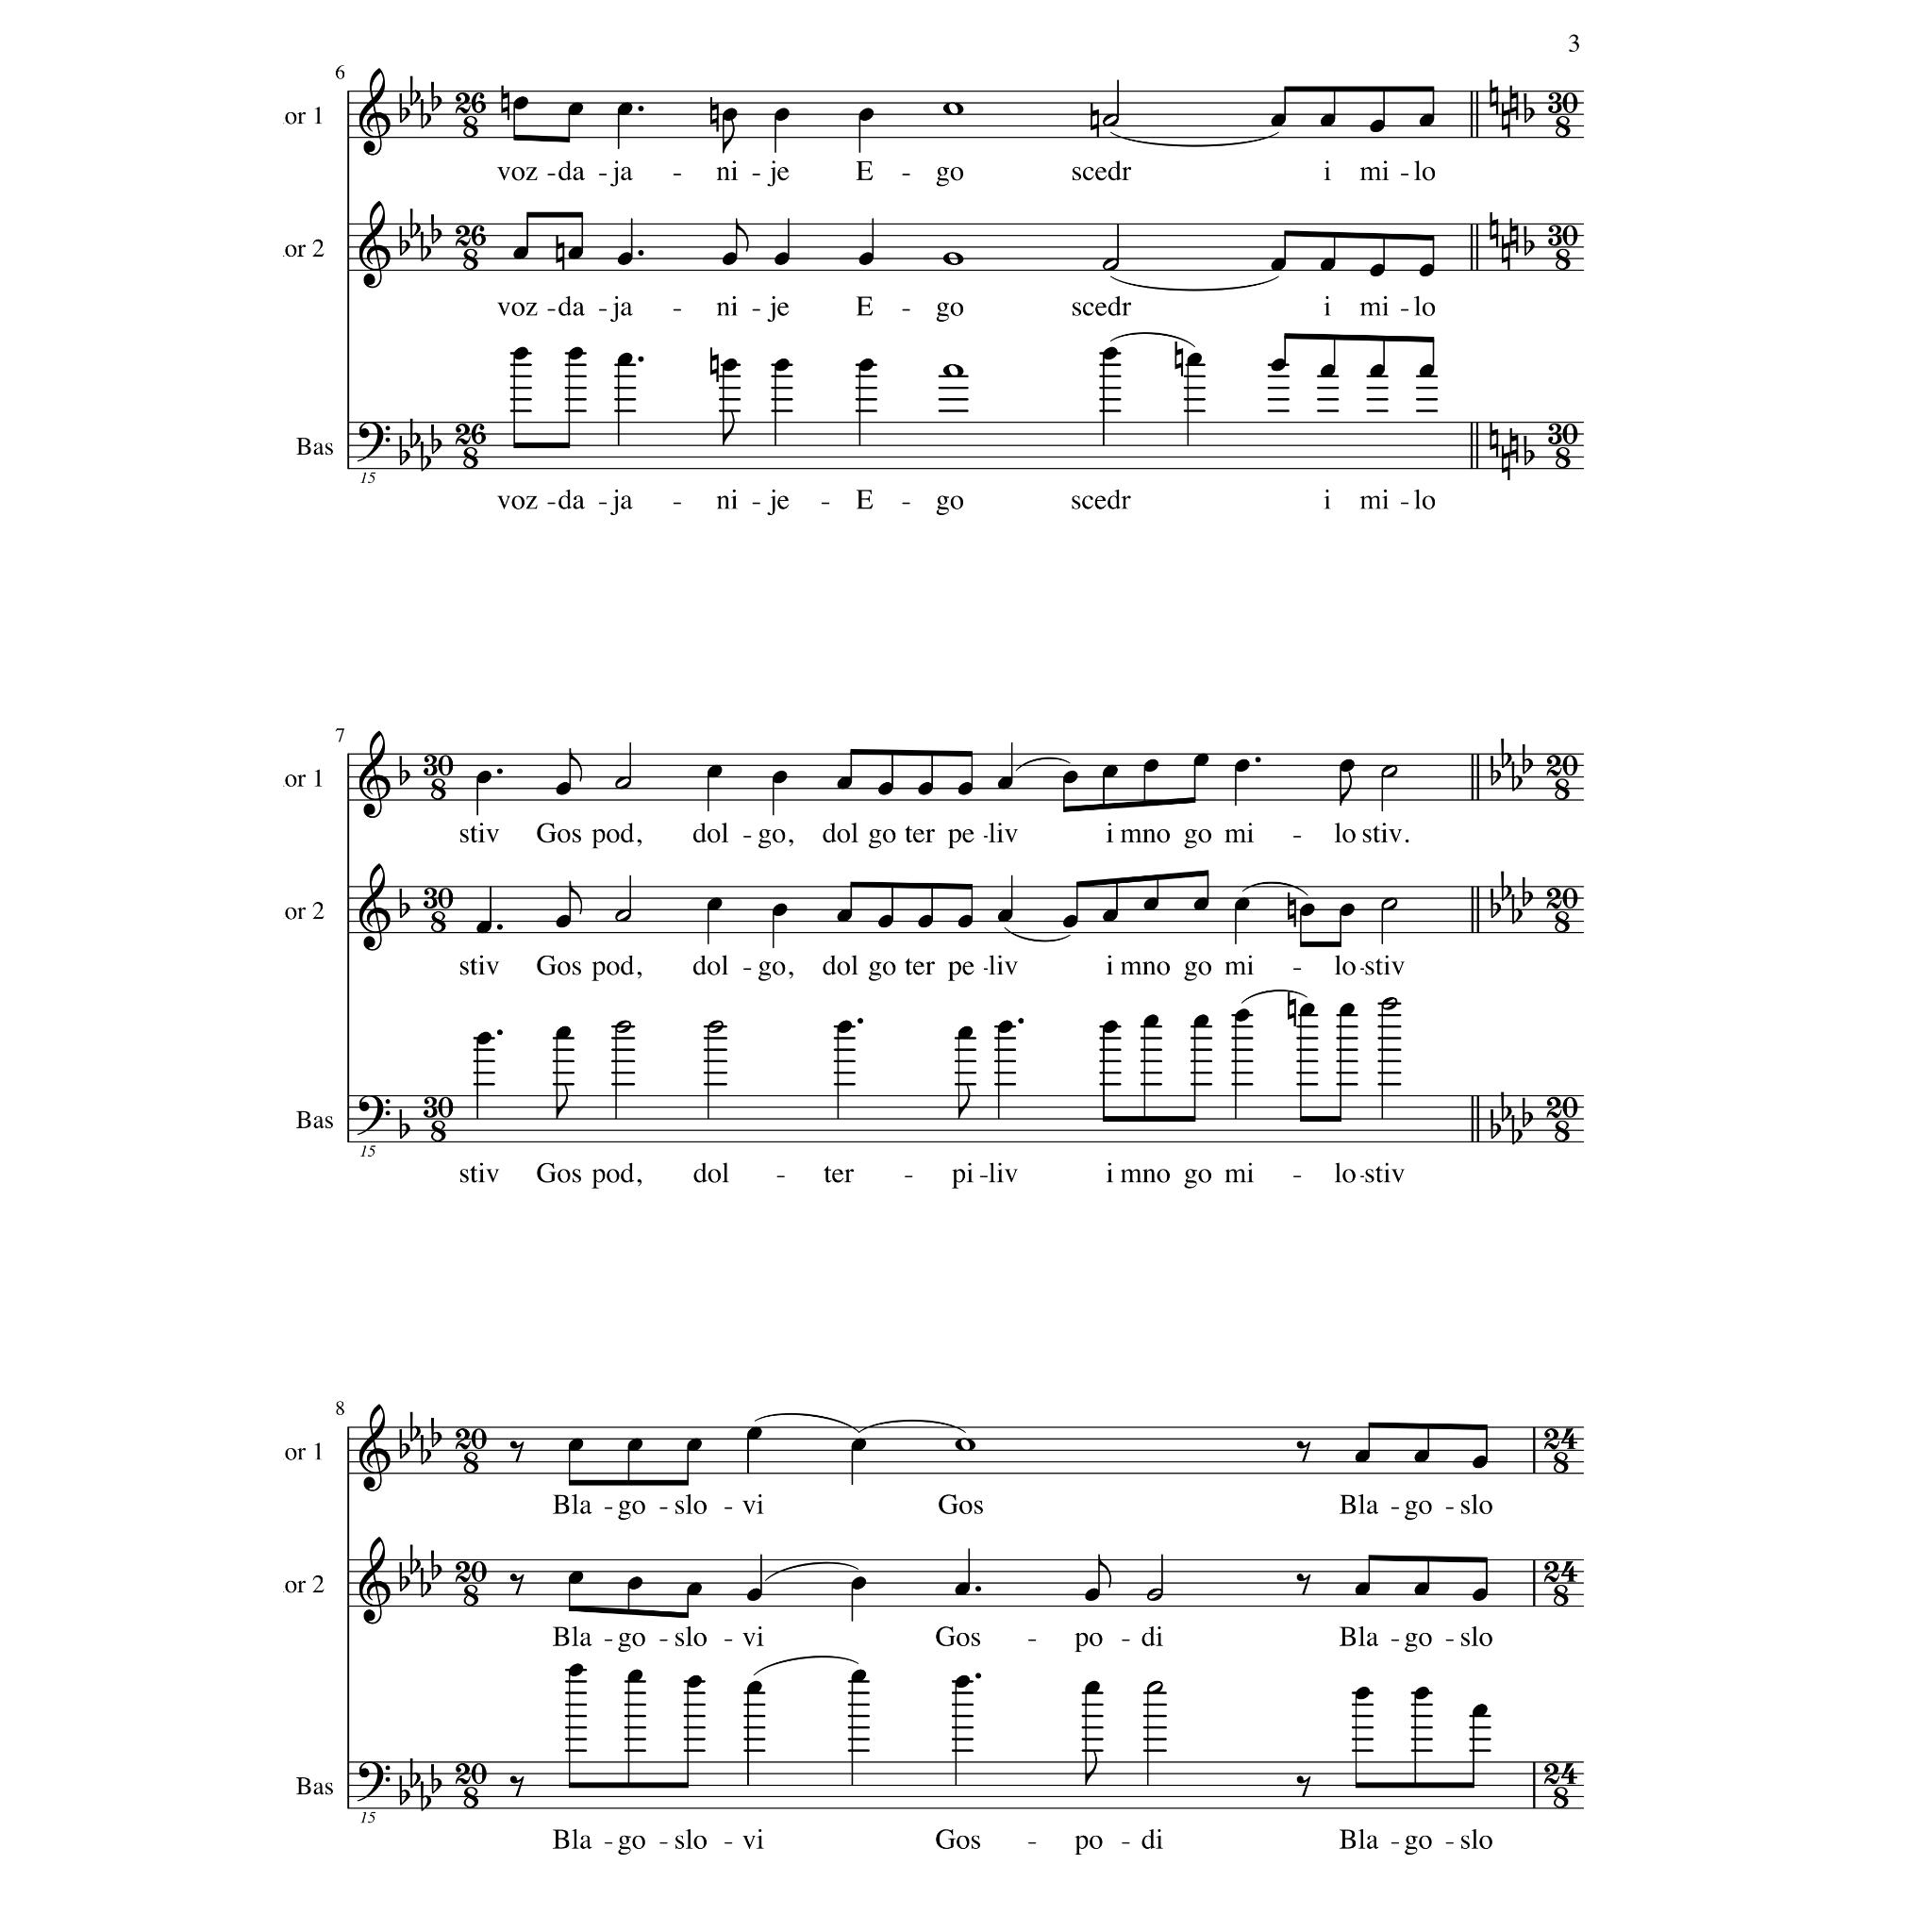fClef: (357, 423, 391, 464), (357, 1095, 391, 1136), (357, 1762, 391, 1803)
flag8thDown: (1339, 771, 1352, 807), (722, 412, 734, 446), (722, 120, 734, 154), (556, 1085, 568, 1118), (957, 1085, 970, 1118), (1085, 1752, 1097, 1785)
flag8thUp: (570, 748, 582, 784), (736, 219, 748, 253), (570, 881, 582, 915), (1099, 1555, 1111, 1589)
gClef: (359, 67, 391, 157), (359, 1403, 391, 1493), (359, 202, 391, 290), (359, 863, 391, 952), (359, 731, 391, 819), (359, 1537, 391, 1626)
noteheadBlack: (616, 352, 633, 366), (616, 103, 633, 117), (616, 251, 633, 265), (773, 251, 791, 265), (773, 108, 791, 122), (1299, 1003, 1316, 1017), (1320, 258, 1336, 272), (1369, 264, 1385, 278), (1102, 347, 1118, 361), (1270, 258, 1286, 272), (1187, 352, 1203, 366), (1419, 264, 1435, 278), (568, 347, 584, 361), (568, 103, 584, 117), (513, 347, 529, 361), (858, 108, 874, 122), (858, 251, 874, 265), (722, 251, 738, 265), (722, 108, 738, 122), (1235, 759, 1251, 773), (1192, 1014, 1208, 1028), (1102, 909, 1118, 924), (1102, 764, 1118, 778), (1063, 915, 1079, 929), (1143, 1014, 1159, 1028), (1143, 759, 1159, 773), (1339, 1003, 1355, 1017), (1339, 759, 1355, 773), (556, 1026, 571, 1040), (556, 915, 571, 929), (708, 764, 724, 778), (476, 1031, 492, 1046), (476, 920, 492, 934), (957, 915, 973, 929), (957, 1026, 973, 1040), (918, 915, 934, 929), (996, 909, 1012, 924), (996, 777, 1012, 791), (837, 909, 853, 924), (837, 777, 853, 791), (878, 915, 893, 929), (1353, 1582, 1369, 1596), (1353, 1686, 1369, 1700), (1353, 1449, 1369, 1463), (1414, 1686, 1430, 1700), (1414, 1582, 1430, 1596), (1414, 1449, 1430, 1463), (1085, 1681, 1100, 1695), (568, 1663, 584, 1677), (568, 1571, 584, 1585), (568, 1438, 584, 1453), (626, 1670, 642, 1684), (626, 1438, 642, 1453), (851, 1670, 867, 1684), (851, 1438, 867, 1453), (954, 1582, 970, 1596), (747, 1681, 763, 1695), (686, 1582, 702, 1596), (686, 1438, 702, 1453), (747, 1426, 763, 1440), (773, 359, 791, 372), (1299, 904, 1316, 916), (1320, 364, 1336, 377), (1320, 115, 1336, 127), (1369, 364, 1385, 377), (1369, 120, 1385, 133), (1270, 359, 1286, 372), (1270, 115, 1286, 127), (1419, 364, 1435, 377), (1419, 115, 1435, 127), (568, 248, 584, 260), (513, 248, 529, 260), (513, 97, 529, 110), (858, 359, 874, 372), (722, 359, 738, 372), (1235, 899, 1251, 911), (1192, 899, 1208, 911), (1192, 754, 1208, 766), (1235, 1008, 1251, 1021), (1102, 1021, 1118, 1033), (1063, 771, 1079, 784), (1143, 899, 1159, 911), (1339, 904, 1355, 916), (556, 782, 571, 794), (708, 899, 724, 911), (476, 771, 492, 784), (957, 782, 973, 794), (918, 782, 934, 794), (996, 1021, 1012, 1033), (837, 1021, 853, 1033), (771, 904, 787, 916), (771, 771, 787, 784), (878, 782, 893, 794), (1085, 1589, 1100, 1601), (1472, 1704, 1488, 1716), (1472, 1589, 1488, 1601), (1472, 1456, 1488, 1468), (626, 1576, 642, 1589), (851, 1576, 867, 1589), (747, 1589, 763, 1601), (954, 1675, 970, 1688), (686, 1675, 702, 1688)
noteheadHalf: (614, 909, 632, 924), (1102, 258, 1118, 272), (1382, 764, 1398, 778), (1146, 1681, 1162, 1695), (614, 1021, 632, 1033), (614, 777, 632, 789), (706, 1021, 724, 1033), (1102, 115, 1118, 127), (1382, 998, 1398, 1010), (1382, 899, 1398, 911), (1146, 1589, 1162, 1601)
noteheadWhole: (941, 253, 964, 267), (941, 103, 964, 117), (954, 1437, 977, 1451), (941, 364, 964, 377)
rest8th: (1297, 1775, 1311, 1798), (1297, 1573, 1311, 1596), (1297, 1440, 1311, 1463), (510, 1775, 524, 1798), (510, 1573, 524, 1596), (510, 1440, 524, 1463)
